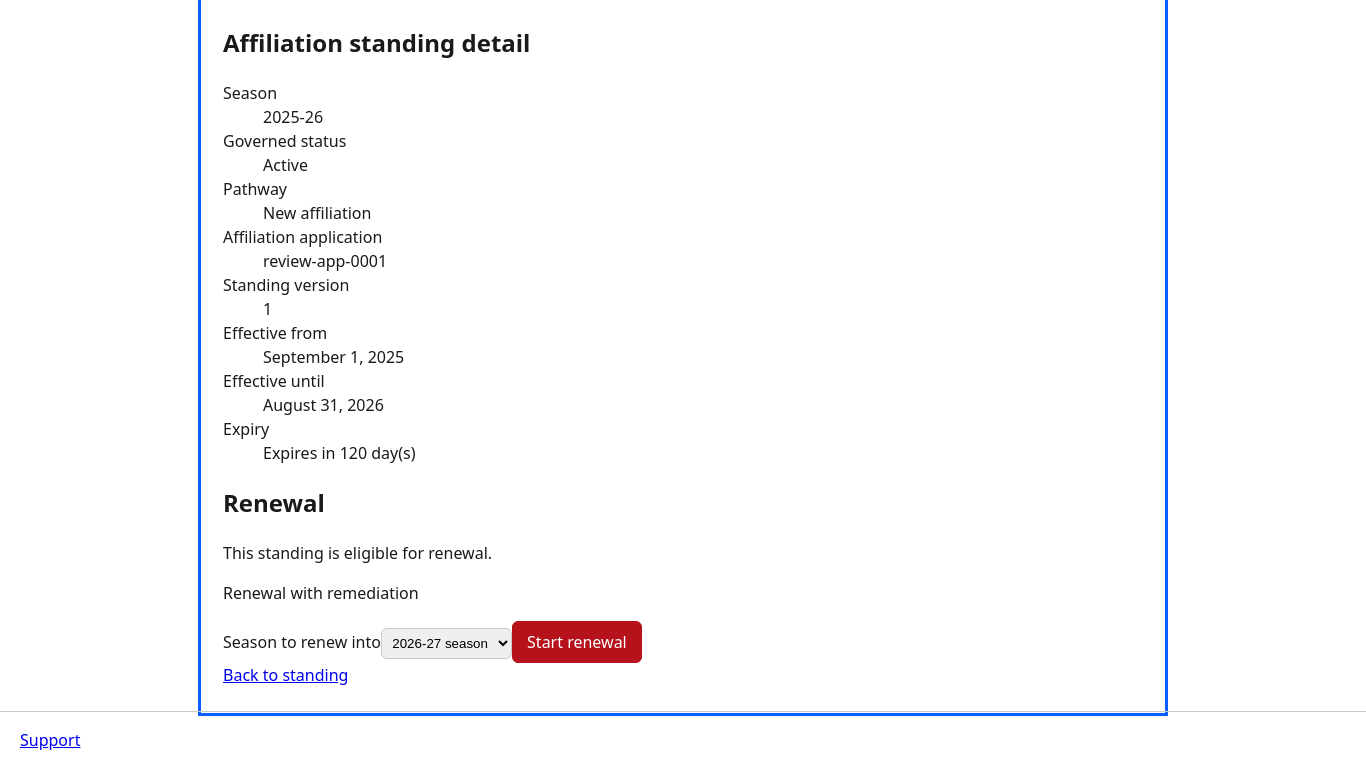
Button standing renewal experience › reports an error without leaking internals when initiation fails
(page scrolled)
Check: the heading "Affiliation standing detail" is shown, box [223,26,530,59]
Click the button "Start renewal" at {"x": 577, "y": 642}, box [512,621,642,663]
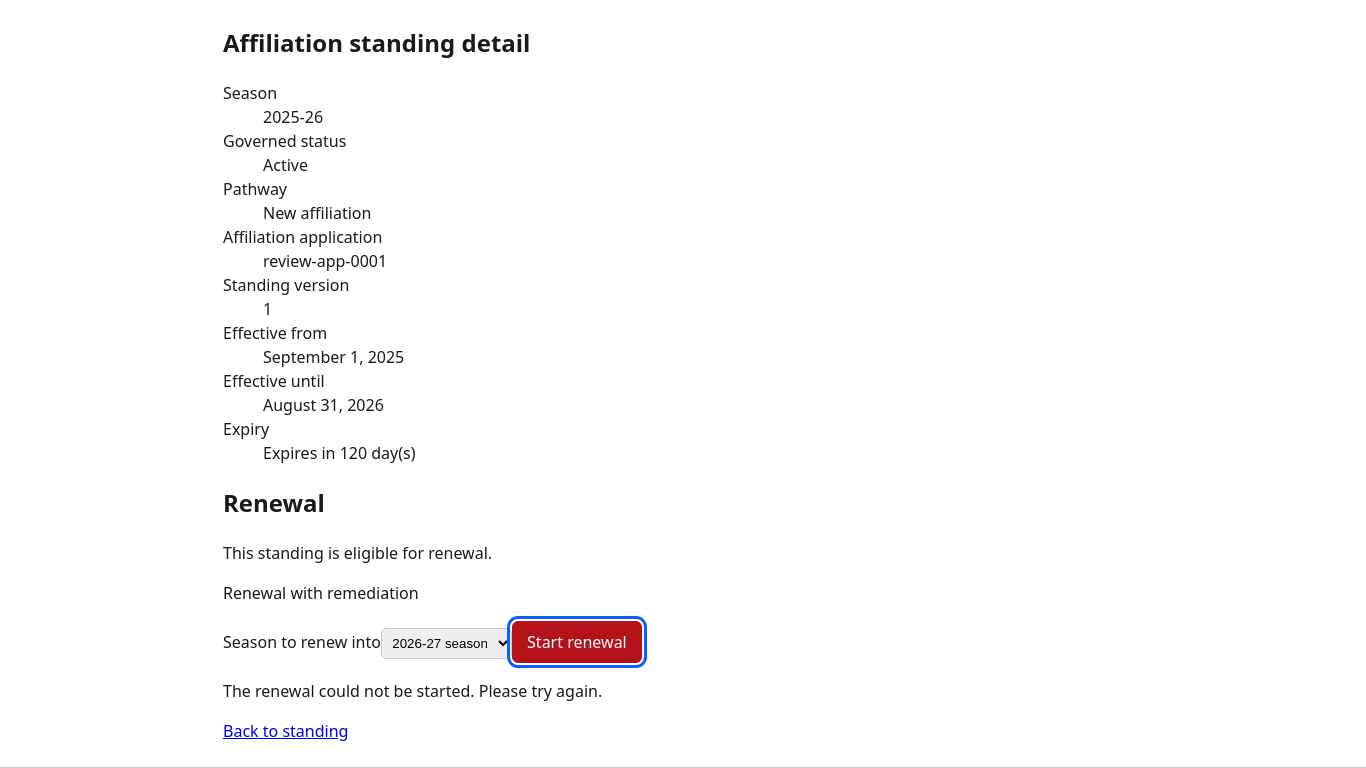
Check: the text "The renewal could not be started. Please try again." is shown, box [223,680,602,702]
